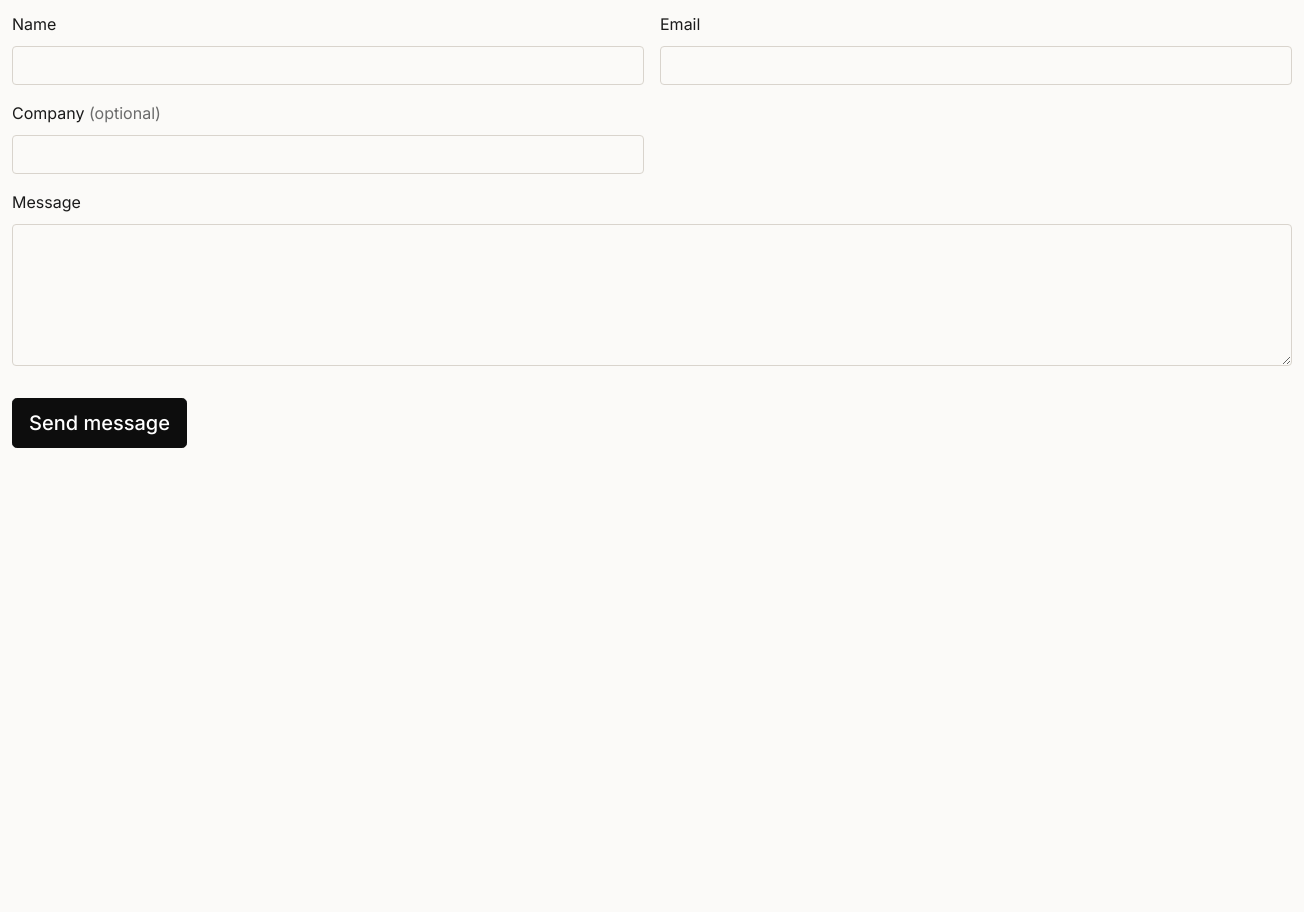
<ContactForm /> › shows a fallback error toast when fetch throws
Step 1. Type "Jane Doe" into the field labelled "Name" → x=328, y=65, box top-left (12, 46), bottom-right (644, 85)
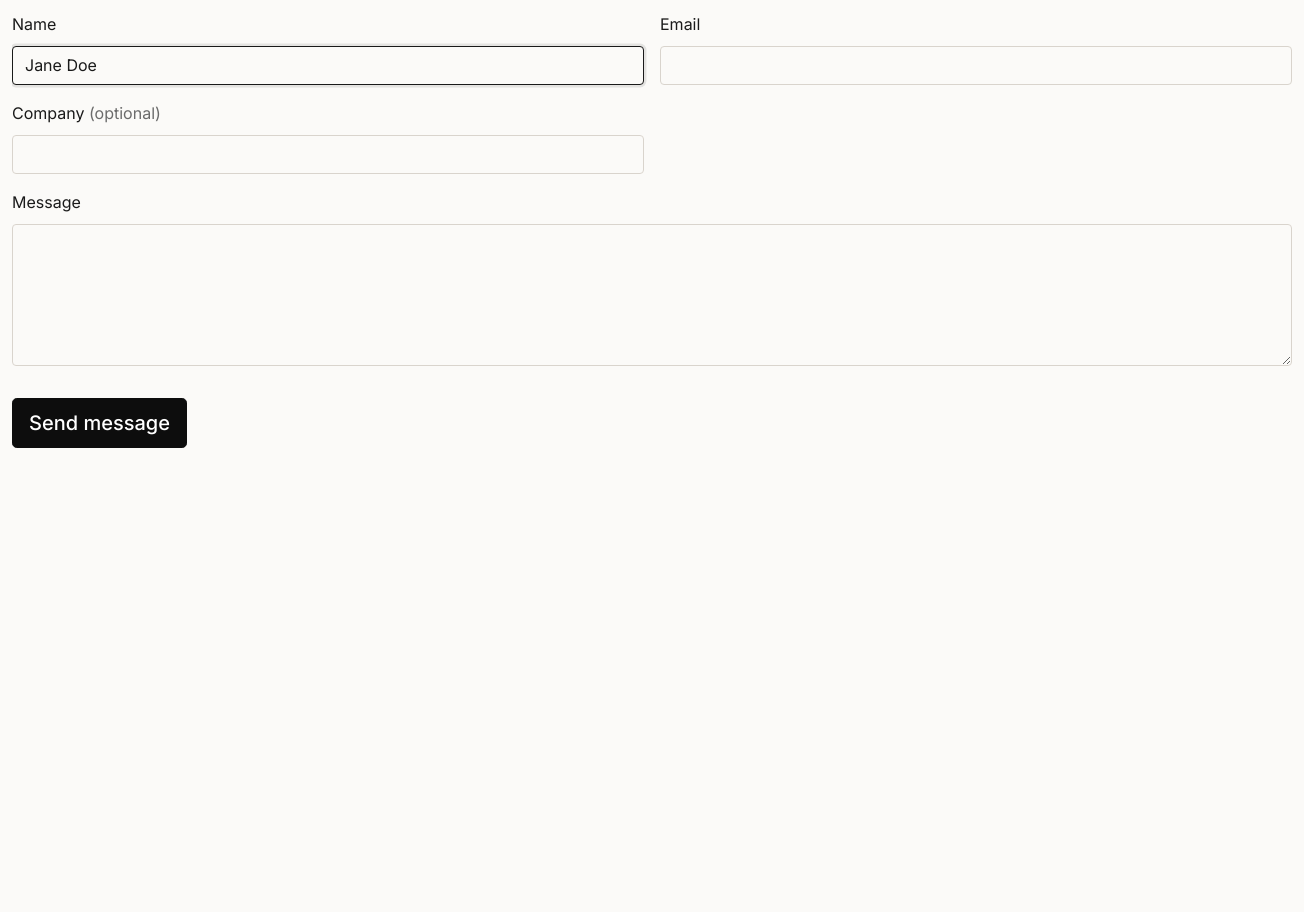
Step 2. Type "jane@example.com" into the field labelled "Email" → x=976, y=65, box top-left (660, 46), bottom-right (1292, 85)
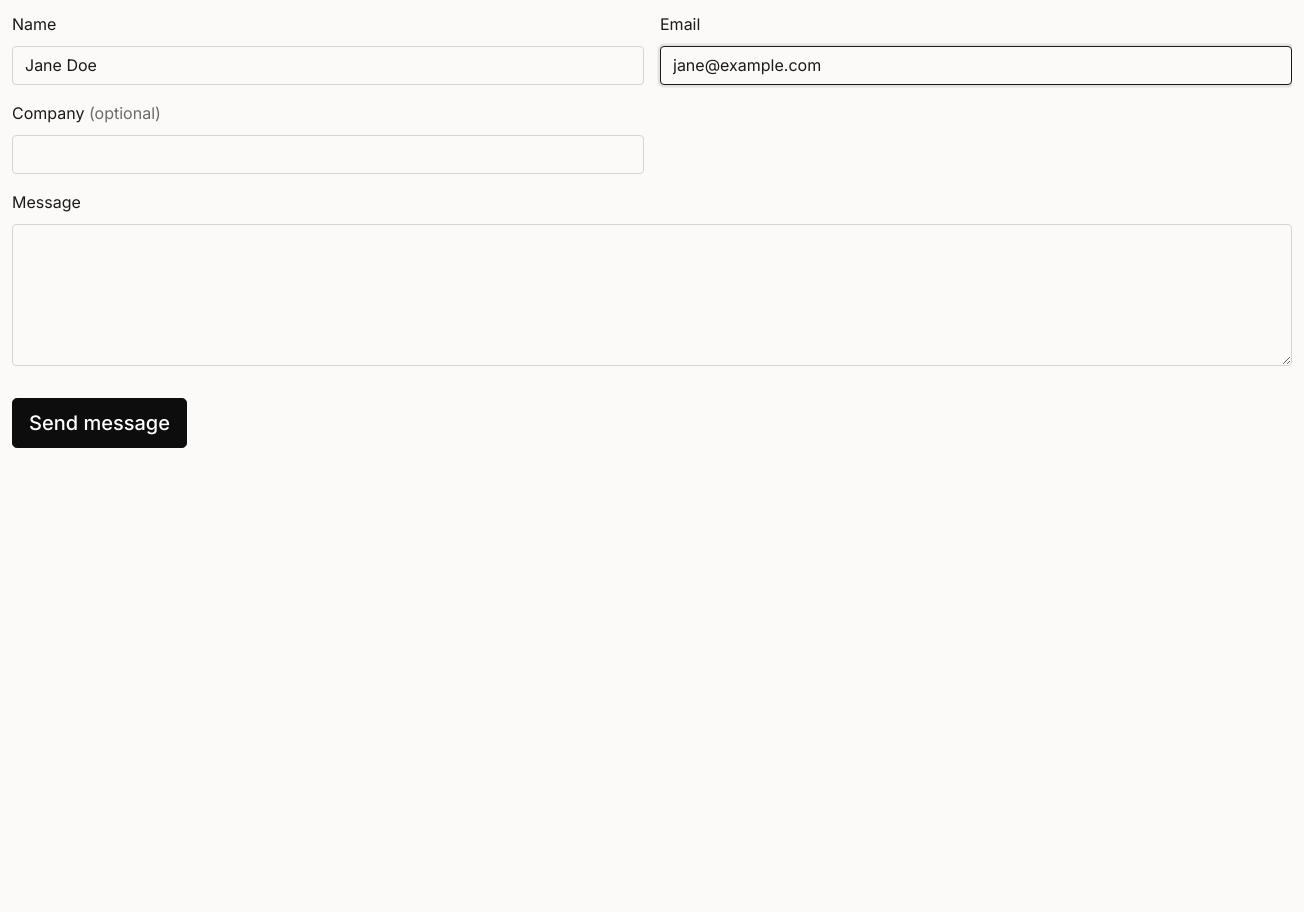
Step 3. Type "Hello there, this is a valid message body." into the text box labelled "Message" → x=652, y=295, box top-left (12, 224), bottom-right (1292, 366)
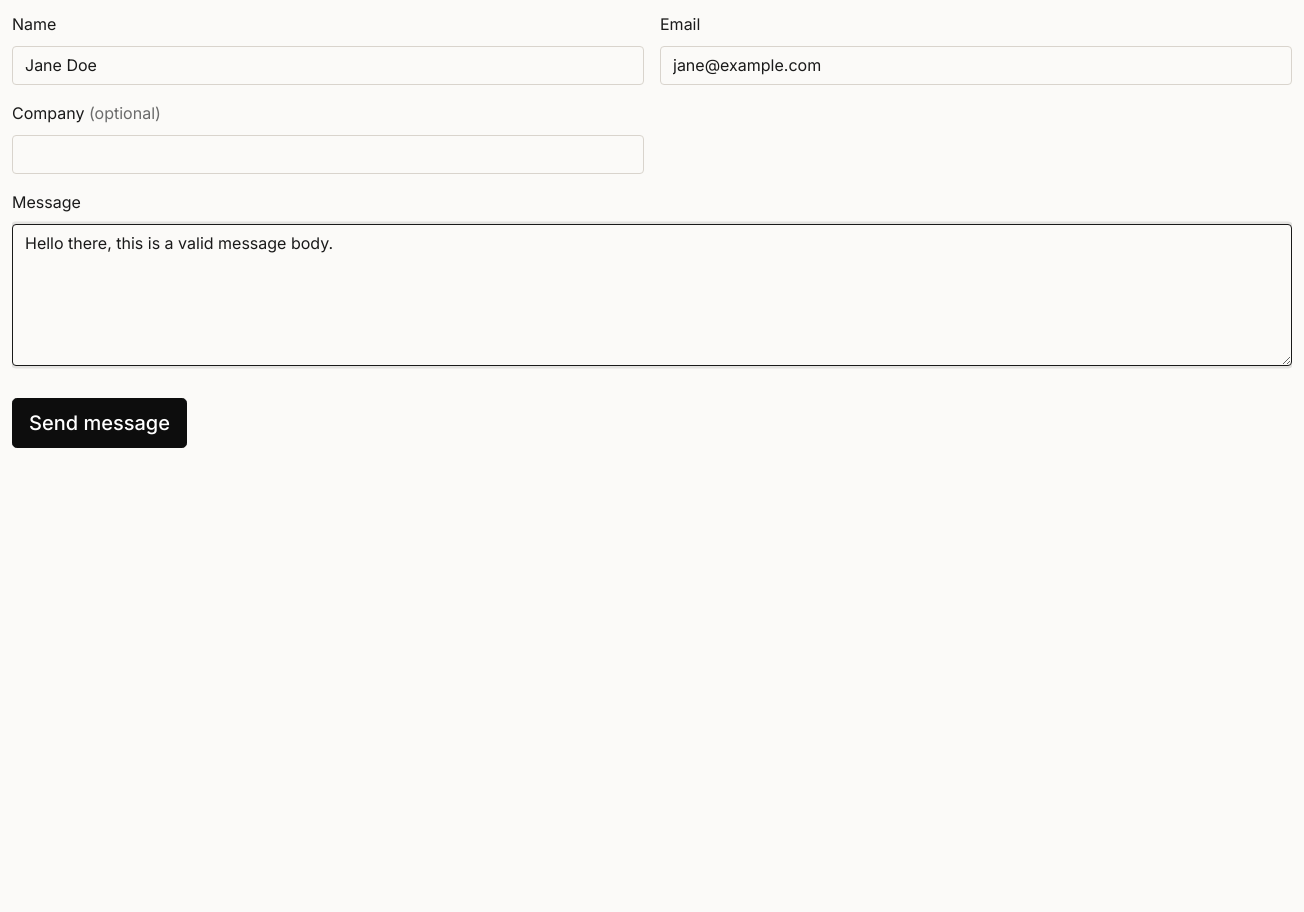
Step 4. Click the button "Send message" → x=100, y=423, box top-left (12, 398), bottom-right (187, 448)
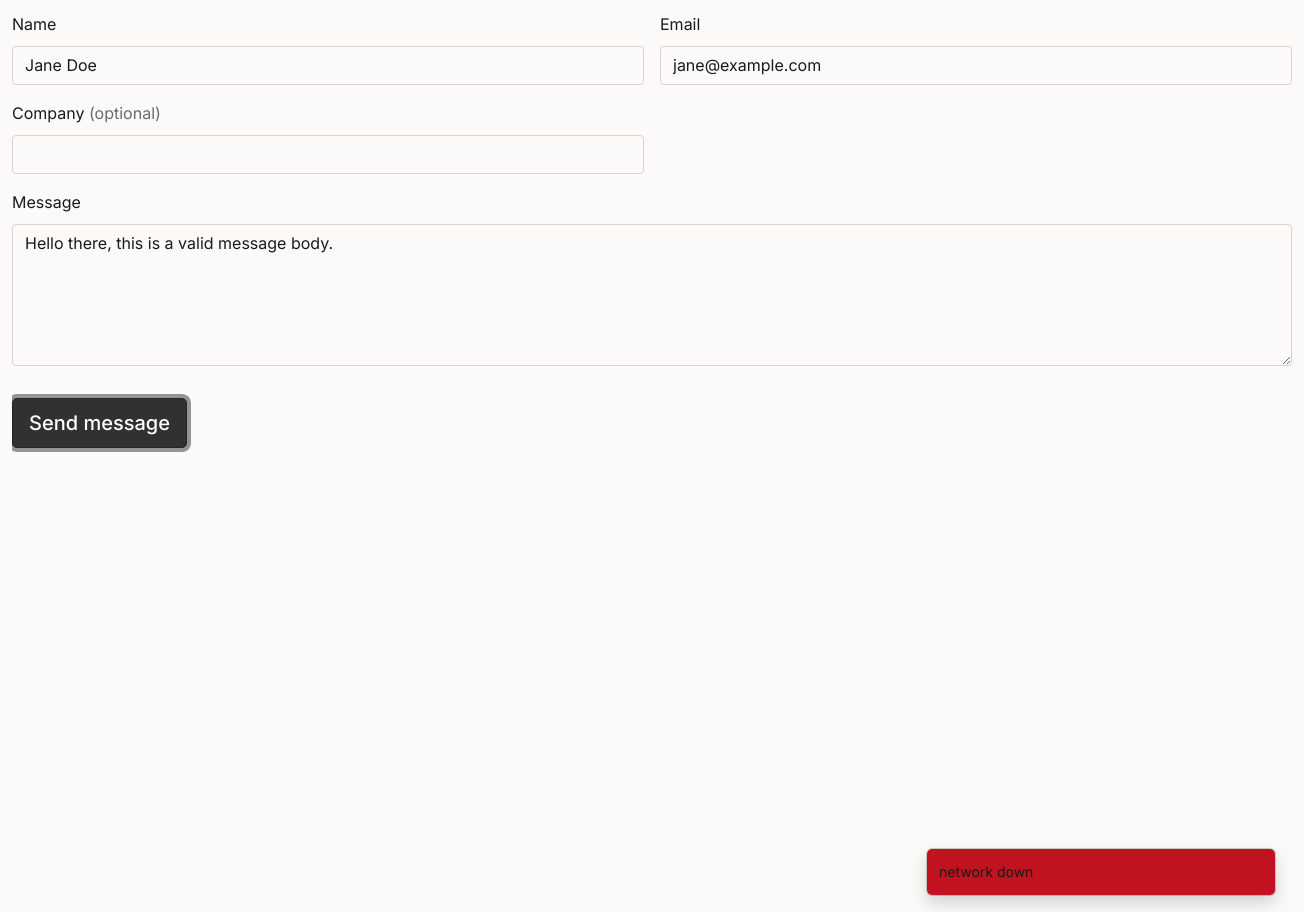
Expected: the text "network down" is shown, top-left (939, 863), bottom-right (1033, 880)
